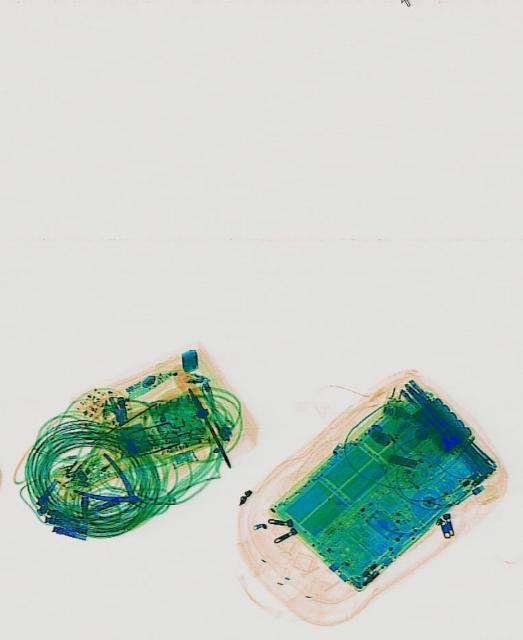Pliers: (70, 446, 155, 530)
